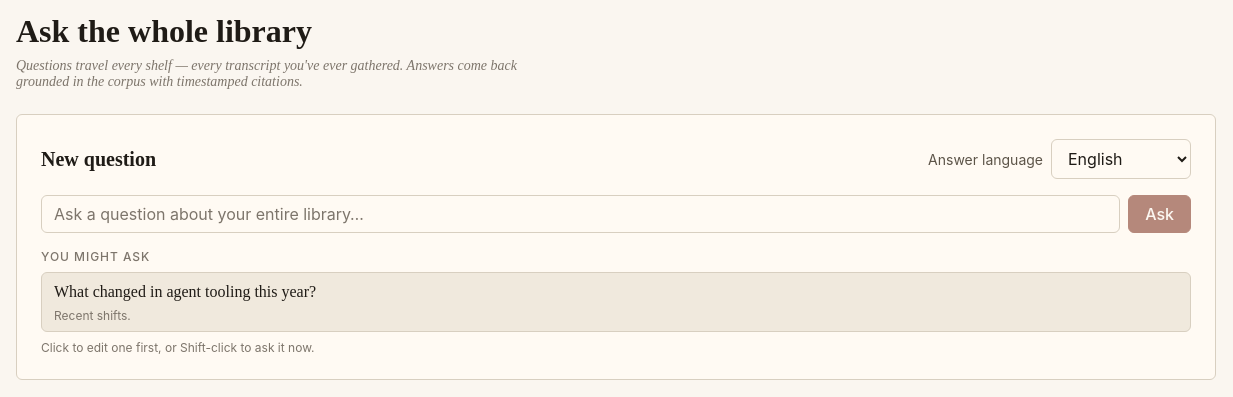
LibraryQAPage suggestions › asks for the library context and a click fills the composer
What coordinates should you click on to do the following:
click the button "What changed in agent tooling this year? Recent shifts."
I would click on:
 (185, 292)
Its box is [41,272,1191,332].
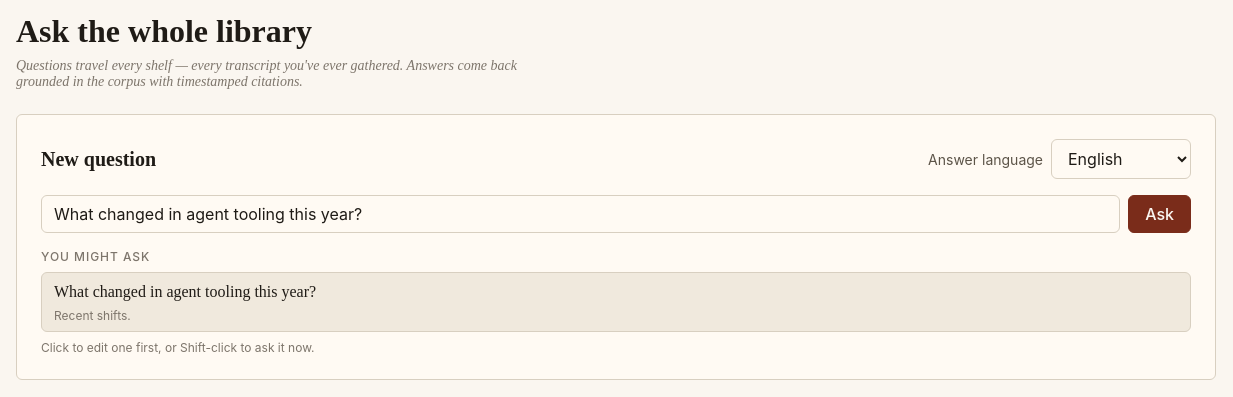
Expected: the field named "Question" holds "What changed in agent tooling this year?", [41,195,1120,233]
